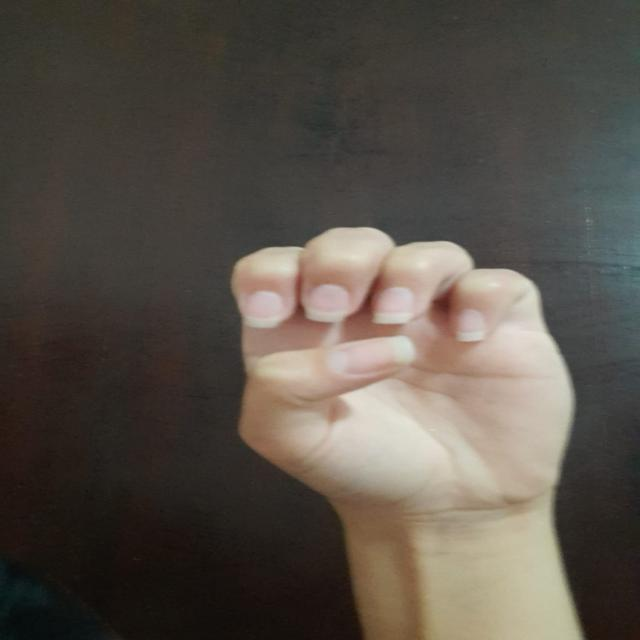E: (217, 228, 584, 514)
